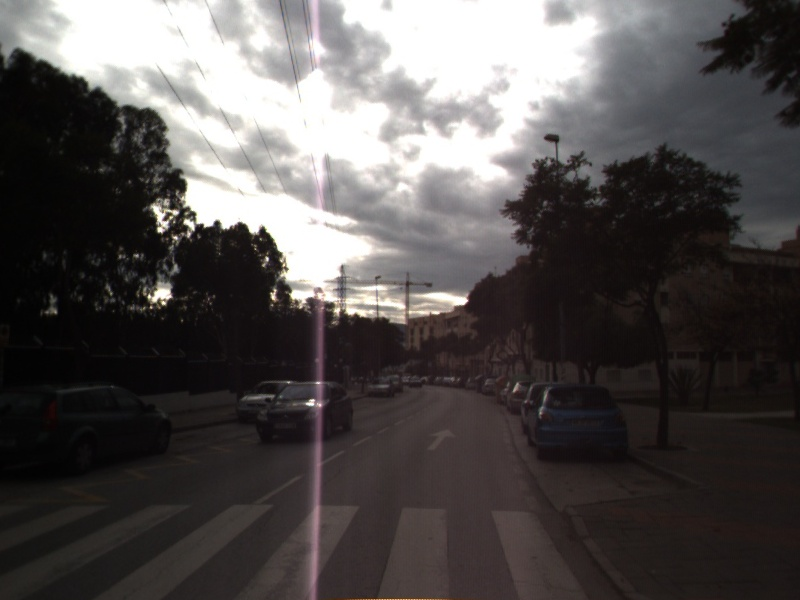STRAIGHT: (425, 427, 459, 452)
